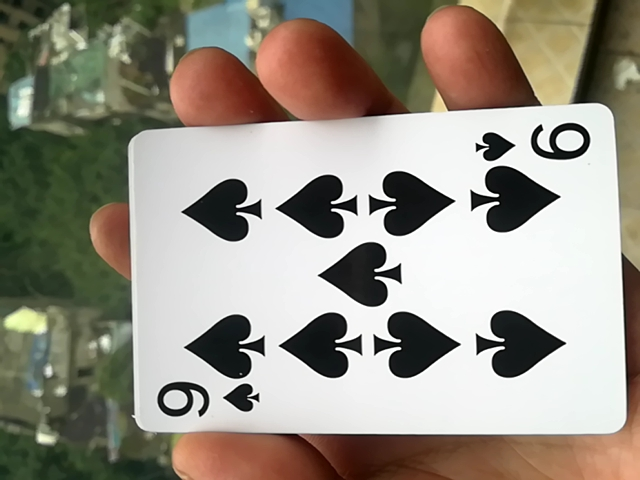ht 9: (119, 120, 624, 450)
